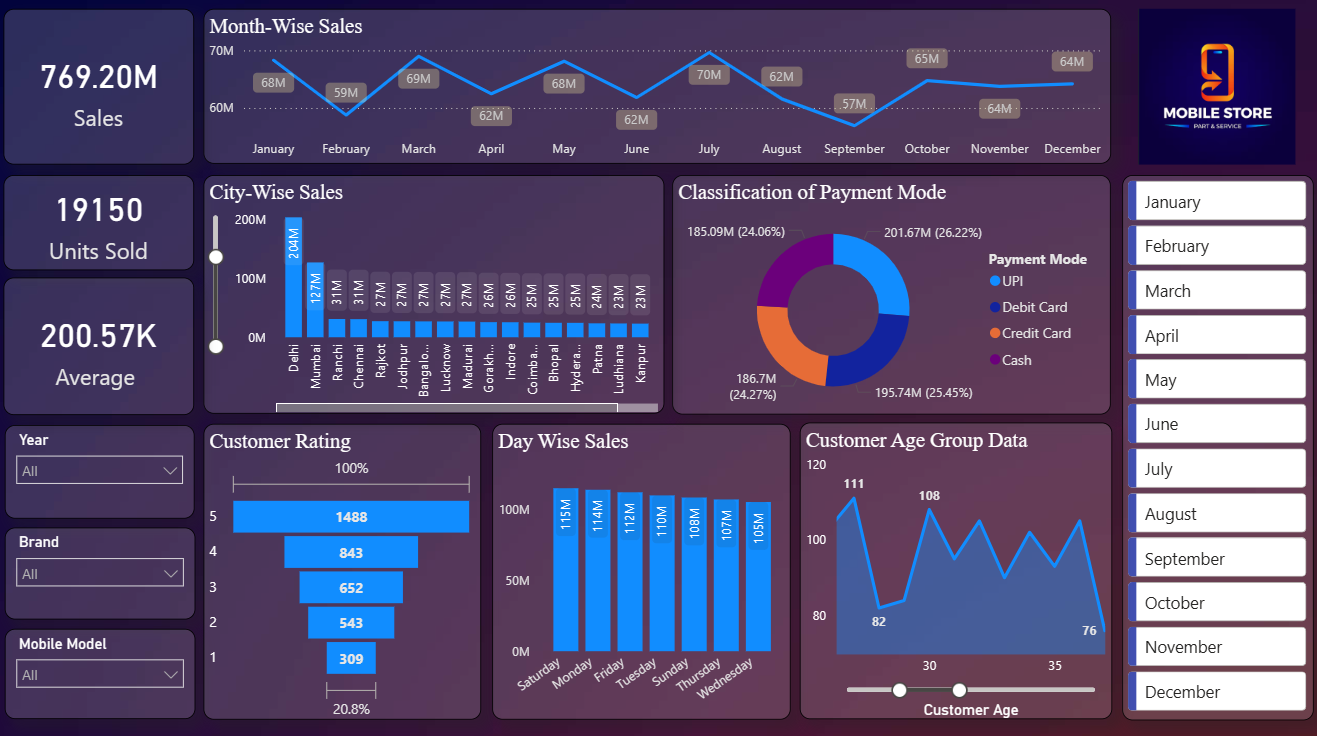

This screenshot's page, from the dashboard's own definition file:
{"tool":"powerbi","page":{"name":"Page 1","canvas":[1280,720],"ordinal":0},"visuals":[{"type":"donutChart","title":"Classification of Payment Mode","fields":{"Y":["Sum(MobileSales_Data.Total Sales)"],"Category":["MobileSales_Data.Payment Method"]},"box":[653.2,173.3,423.6,231],"z":0},{"type":"lineChart","title":"Month-Wise Sales","fields":{"Category":["MobileSales_Data.Date.Variation.Date Hierarchy.Month"],"Y":["Sum(MobileSales_Data.Total Sales)"]},"box":[200.8,13.8,876,149.9],"z":1000},{"type":"slicer","fields":{"Values":["MobileSales_Data.Date.Variation.Date Hierarchy.Year"]},"box":[8.8,415,183,90],"z":2000},{"type":"card","fields":{"Values":["Sum(MobileSales_Data.Total Sales)"]},"box":[7.6,13.5,184.1,150.6],"z":3000},{"type":"card","fields":{"Values":["Sum(MobileSales_Data.Units Sold)"]},"box":[7.6,173.5,184.1,91.8],"z":4000},{"type":"slicer","fields":{"Values":["MobileSales_Data.Brand"]},"box":[8.8,513.8,183.8,89],"z":5000},{"type":"slicer","fields":{"Values":["MobileSales_Data.Mobile Model"]},"box":[8.8,611.2,183.8,87.5],"z":6000},{"type":"funnel","title":"Customer Rating","fields":{"Category":["MobileSales_Data.Customer Ratings"],"Y":["CountNonNull(MobileSales_Data.Customer Ratings)"]},"box":[200.3,413.8,267.8,285.9],"z":7000},{"type":"clusteredColumnChart","title":"City-Wise Sales","fields":{"Category":["MobileSales_Data.City"],"Y":["Sum(MobileSales_Data.Total Sales)"]},"box":[200,173.3,445,230],"z":8000},{"type":"columnChart","title":"Day Wise Sales","fields":{"Category":["MobileSales_Data.DayName"],"Y":["Sum(MobileSales_Data.Total Sales)"]},"box":[479,413.8,288.3,285.9],"z":9000},{"type":"advancedSlicerVisual","fields":{"Values":["MobileSales_Data.Date.Variation.Date Hierarchy.Month"]},"box":[1087,173.7,184.6,526],"z":10000},{"type":"lineChart","title":"Customer Age Group Data","fields":{"Category":["MobileSales_Data.Customer Age"],"Y":["CountNonNull(MobileSales_Data.Customer Age)"]},"box":[776.2,412.5,301.2,286.2],"z":11000},{"type":"card","fields":{"Values":["Avg(MobileSales_Data.Total Sales)"]},"box":[7.5,272.5,183.8,132.5],"z":12000},{"type":"image","box":[1077.8,13.3,202.2,150],"z":13000}]}

Visuals, with their boxes in screenshot pixels (x1, y1, x2, y2), scaled from the page's 1280x720 canvas onto the 1317x736 screenshot:
"Classification of Payment Mode" donutChart: [672, 177, 1108, 413]
"Month-Wise Sales" lineChart: [207, 14, 1108, 167]
slicer - MobileSales_Data.Date.Variation.Date Hierarchy.Year: [9, 424, 197, 516]
card - Sum(MobileSales_Data.Total Sales): [8, 14, 197, 168]
card - Sum(MobileSales_Data.Units Sold): [8, 177, 197, 271]
slicer - MobileSales_Data.Brand: [9, 525, 198, 616]
slicer - MobileSales_Data.Mobile Model: [9, 625, 198, 714]
"Customer Rating" funnel: [206, 423, 482, 715]
"City-Wise Sales" clusteredColumnChart: [206, 177, 664, 412]
"Day Wise Sales" columnChart: [493, 423, 789, 715]
advancedSlicerVisual - MobileSales_Data.Date.Variation.Date Hierarchy.Month: [1118, 178, 1308, 715]
"Customer Age Group Data" lineChart: [799, 422, 1109, 714]
card - Avg(MobileSales_Data.Total Sales): [8, 279, 197, 414]
image: [1109, 14, 1316, 167]
